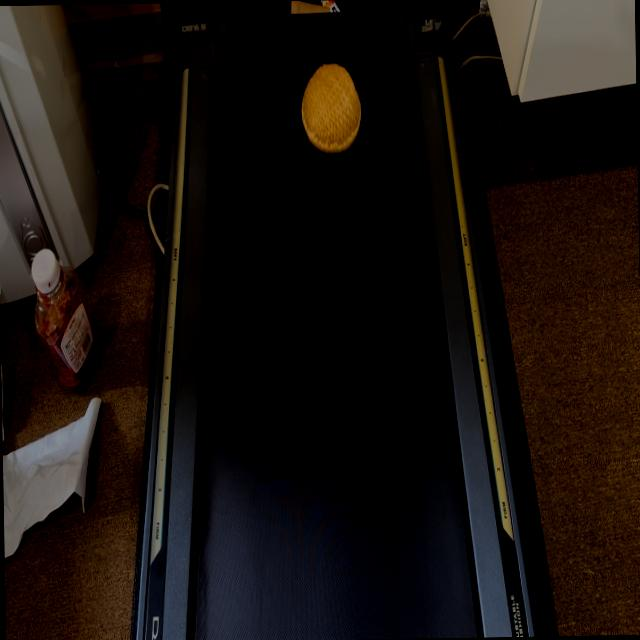Trash: (302, 55, 368, 156)
